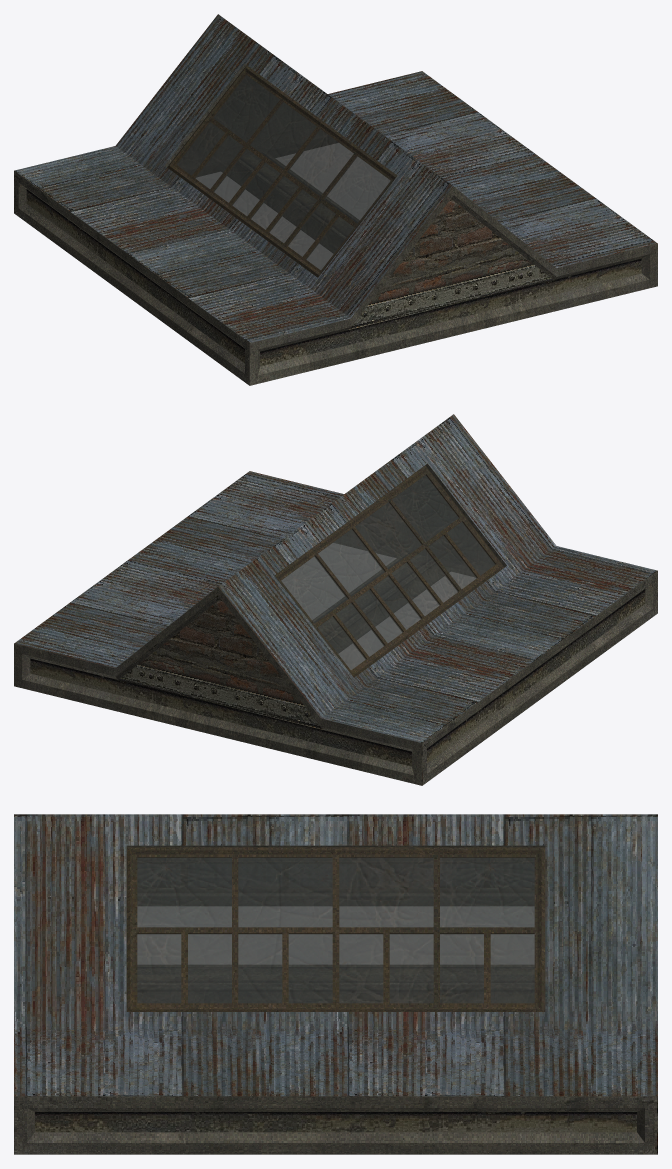
Rendered from roof_bx_1.glb.
3 views of the same model, one above another, from view 1: azimuth 30°, elevation 25°; view 2: azimuth 150°, elevation 25°; view 3: azimuth 270°, elevation 25° (orthographic). The views are drawn at different scales.
Parts seen in each view (by area): view 1: roof_bx_1; view 2: roof_bx_1; view 3: roof_bx_1.
Part boxes in pixels (x1,y1,x2,y2): roof_bx_1: [14, 14, 657, 385]; roof_bx_1: [14, 414, 657, 785]; roof_bx_1: [14, 814, 657, 1154].
Bounding box in the file's own units: 4 × 1.4 × 4.
5 materials, 5 textured.
